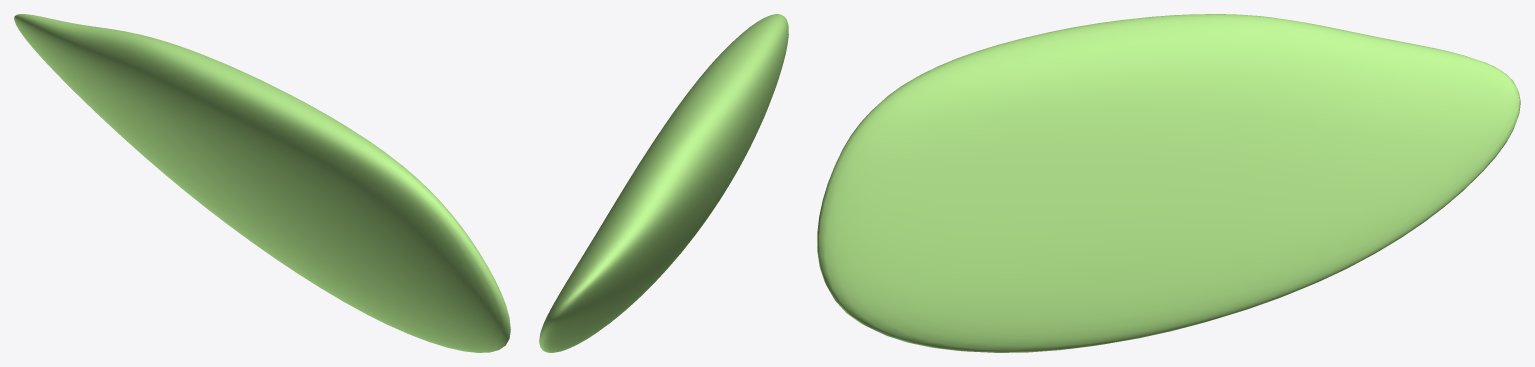
3 views of the same model, side by side, from view 1: azimuth 30°, elevation 25°; view 2: azimuth 150°, elevation 25°; view 3: azimuth 270°, elevation 25° (orthographic). The views are drawn at different scales.
Parts seen in each view (by area): view 1: CR-CF; view 2: CR-CF; view 3: CR-CF.
Part boxes in pixels (bbox=[...]): CR-CF: bbox=[14, 14, 510, 352]; CR-CF: bbox=[539, 14, 788, 352]; CR-CF: bbox=[817, 14, 1520, 352].
Size of the model in its own units: 2.77 by 3.51 by 8.43.
